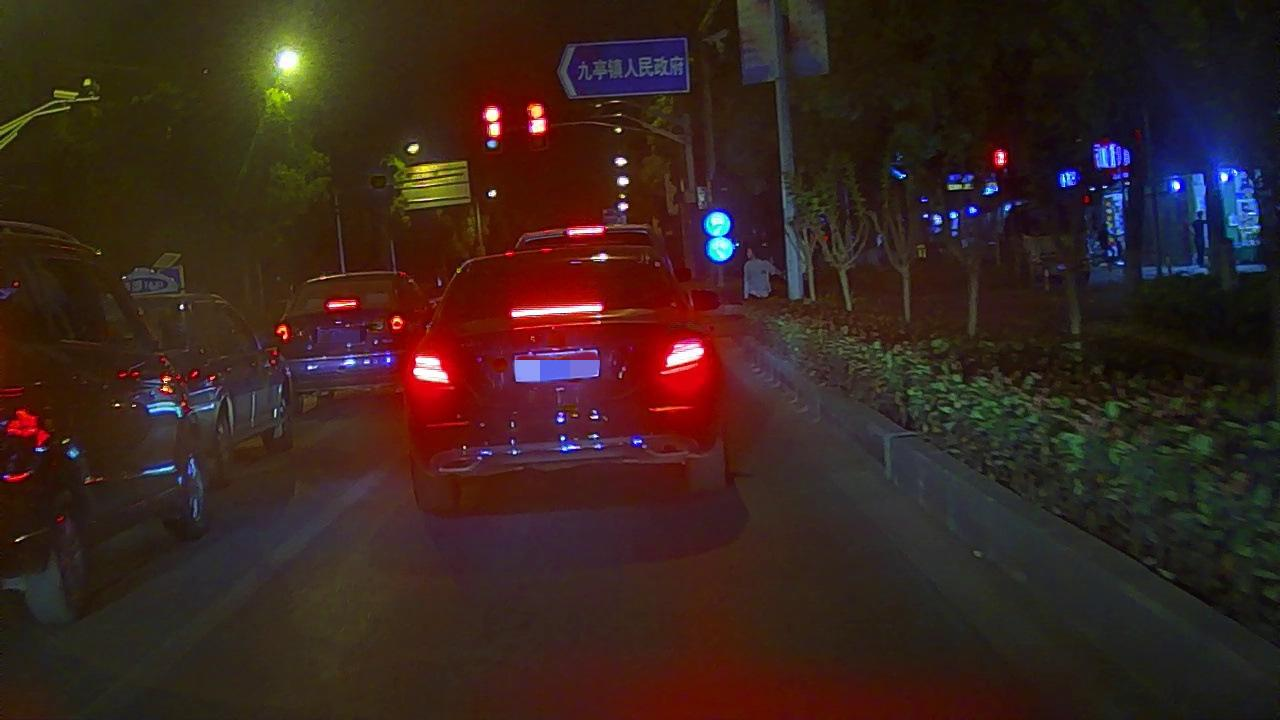traffic_light: (527, 98, 549, 139), (482, 104, 503, 138)
